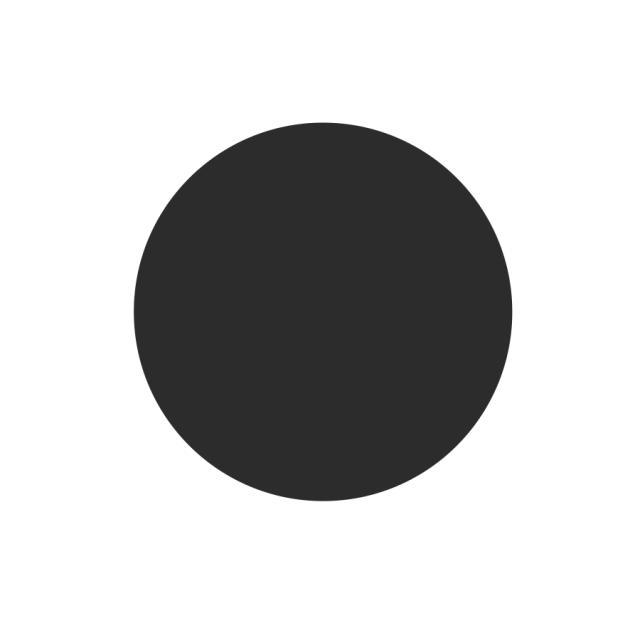Circle: (124, 110, 516, 514)
